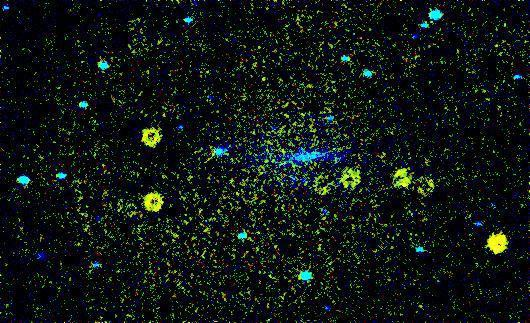star: (284, 164, 314, 194)
